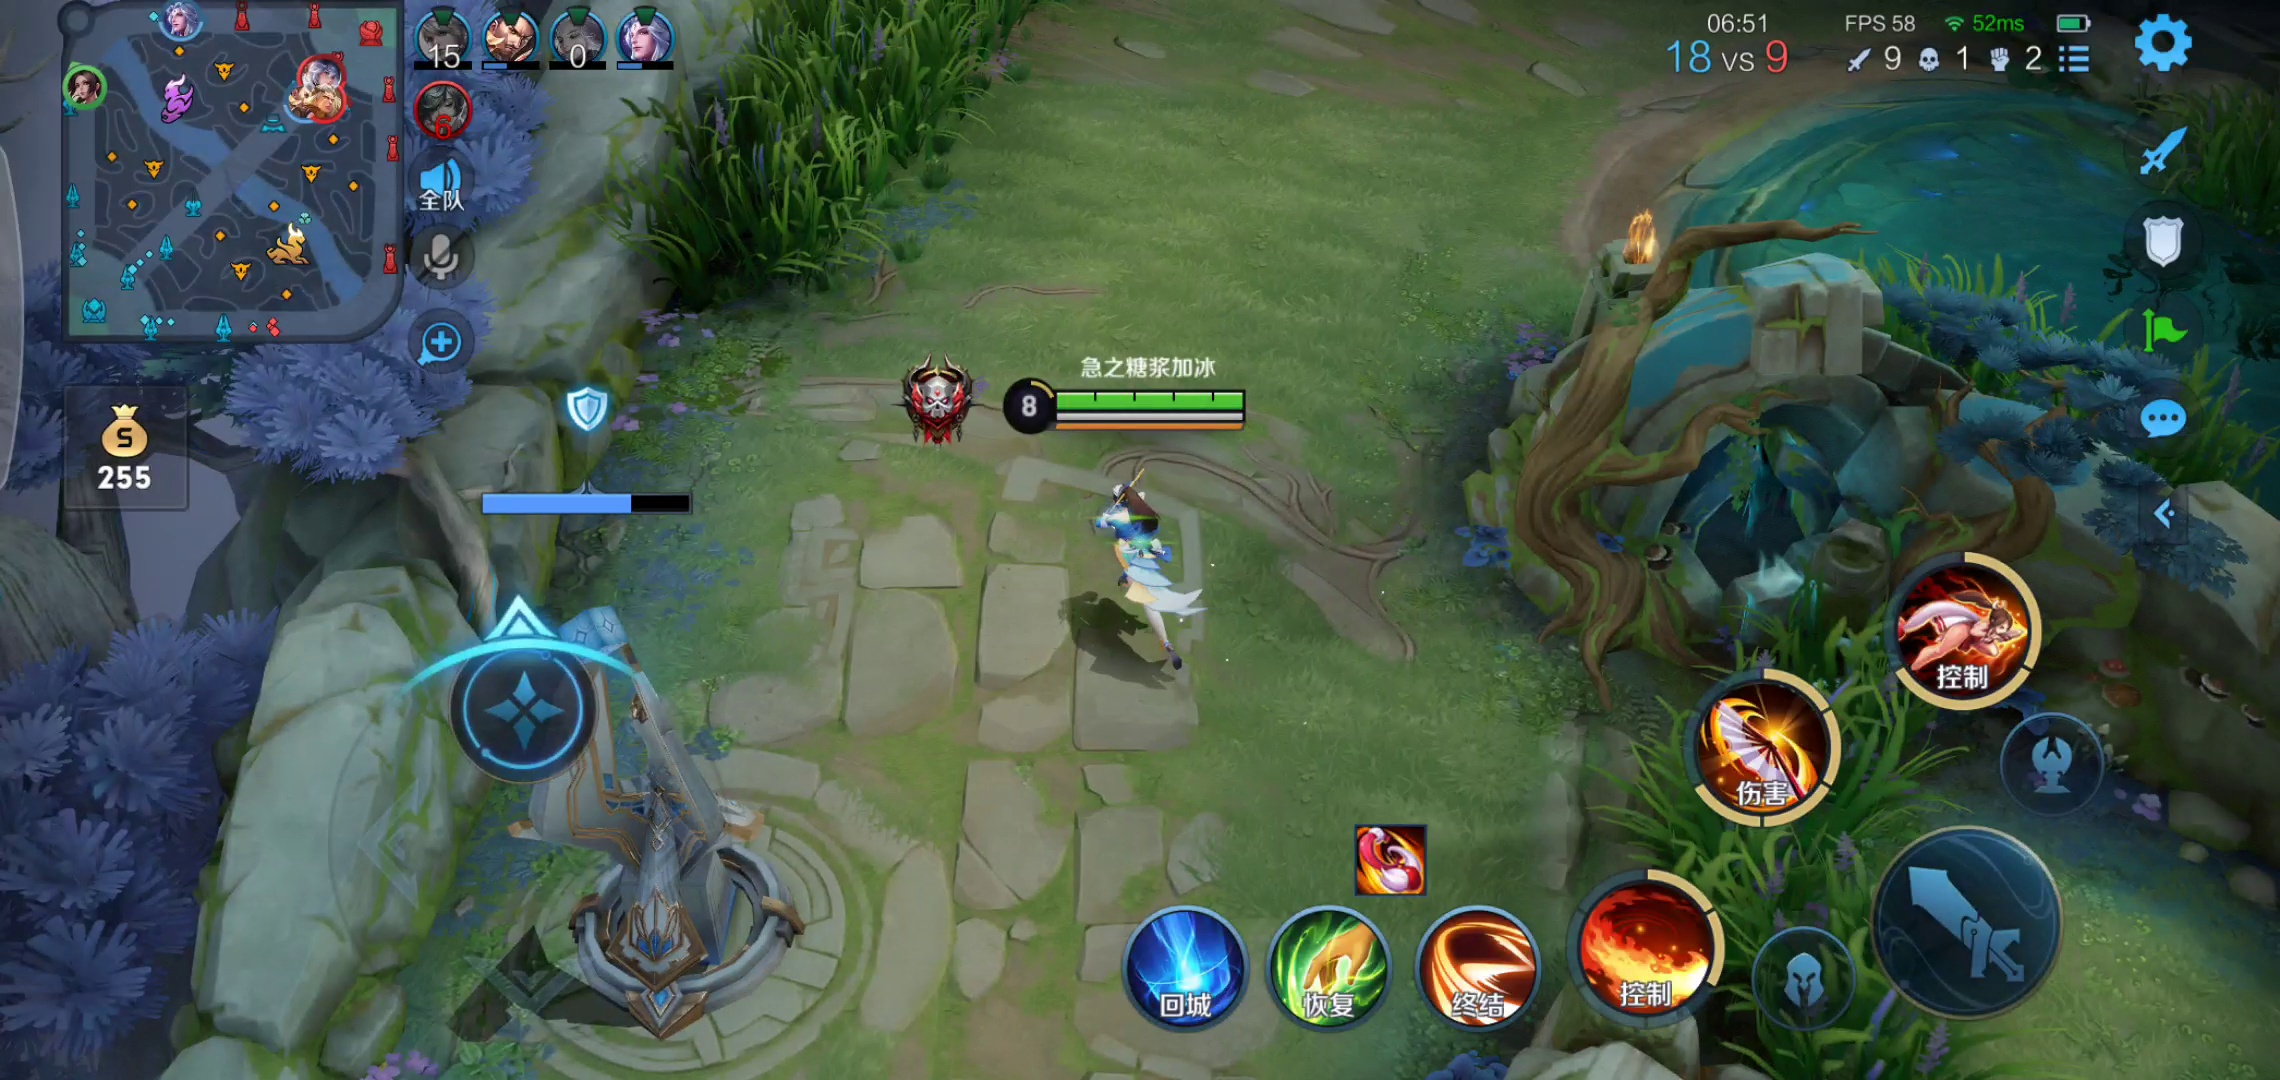grass: (1602, 584, 2042, 1079), (625, 3, 1034, 320)
hero: (1067, 468, 1232, 685)
tower: (461, 599, 833, 1033)
